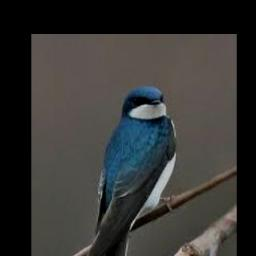Swallow: (80, 86, 177, 256)
